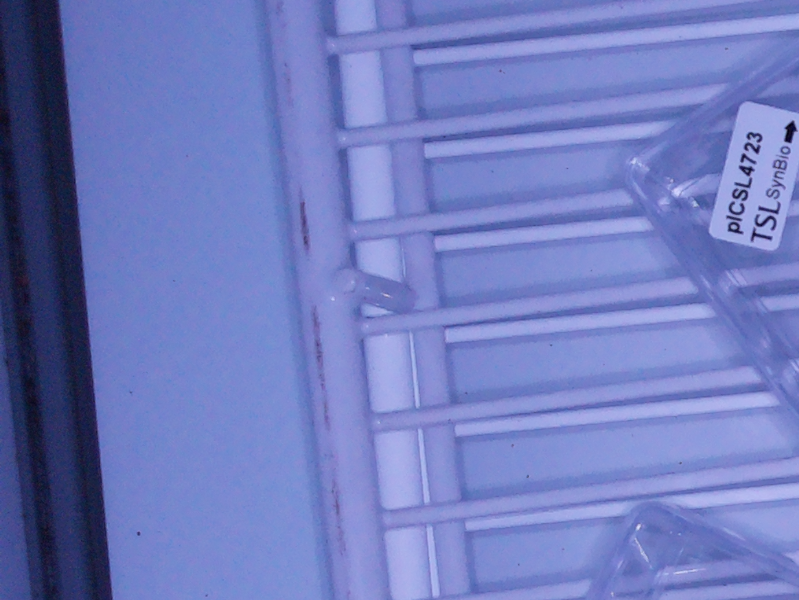plate: (620, 38, 799, 406), (598, 503, 786, 600)
